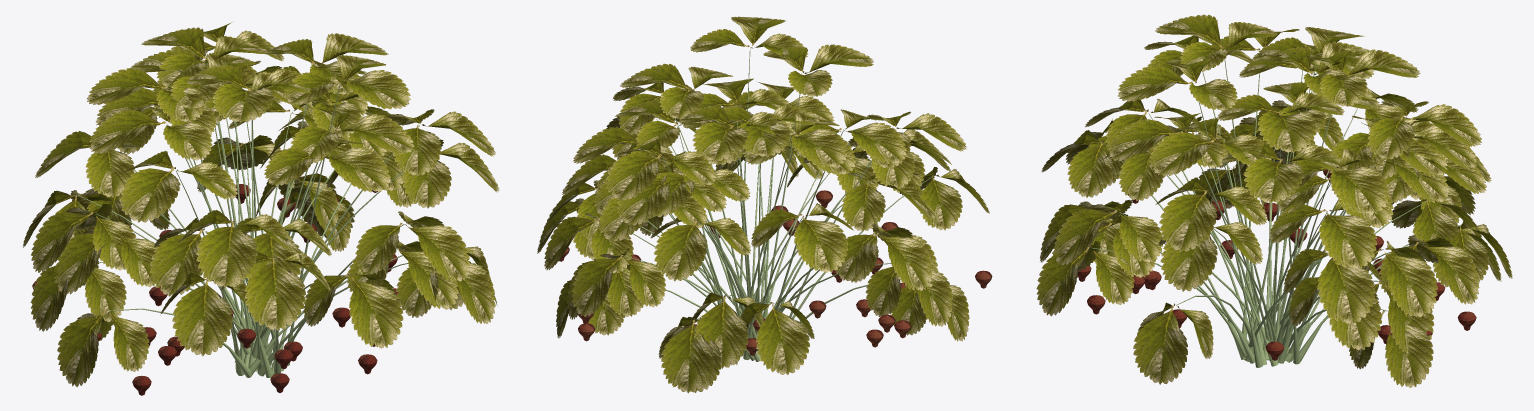
File: Strawberry2sick.fbx
3 views of the same model, side by side, from view 1: azimuth 30°, elevation 25°; view 2: azimuth 150°, elevation 25°; view 3: azimuth 270°, elevation 25° (orthographic). The views are drawn at different scales.
Parts seen in each view (by area): view 1: strawberry2; view 2: strawberry2; view 3: strawberry2.
Part boxes in pixels (x1,y1,x2,y2): strawberry2: [23, 22, 499, 395]; strawberry2: [537, 16, 992, 393]; strawberry2: [1036, 14, 1512, 387].
Bounding box in the file's own units: 65.12 × 63.25 × 46.15.
